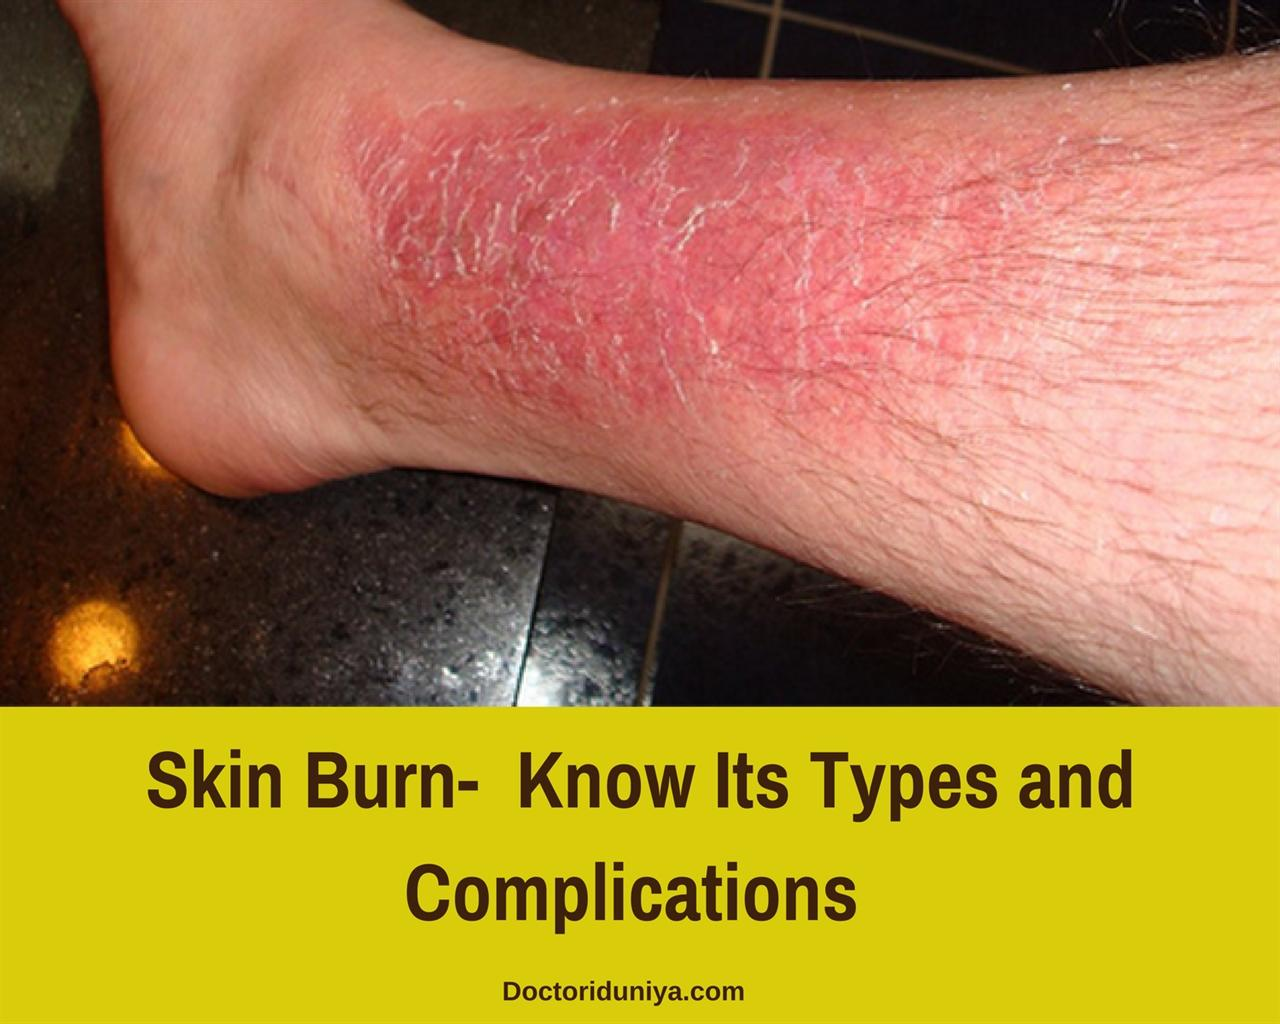burned-skin: (356, 93, 1241, 476)
